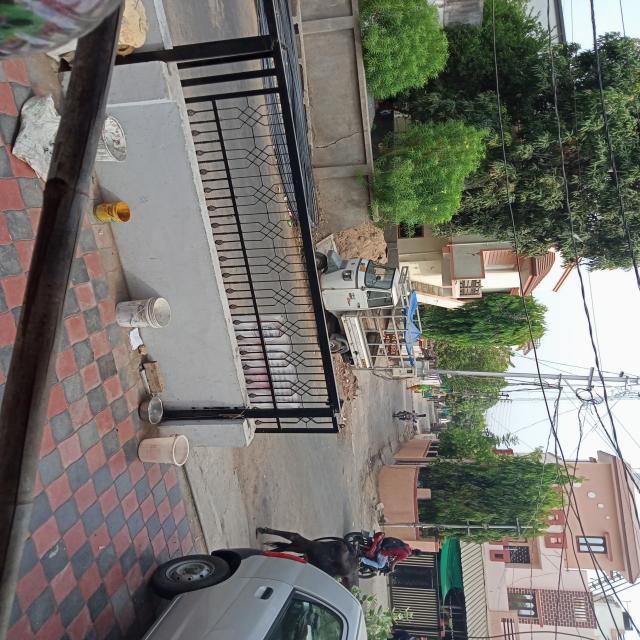Auto: (315, 250, 420, 378)
Car: (142, 549, 367, 640)
Two Wheeler: (343, 530, 390, 579), (393, 410, 417, 422)
